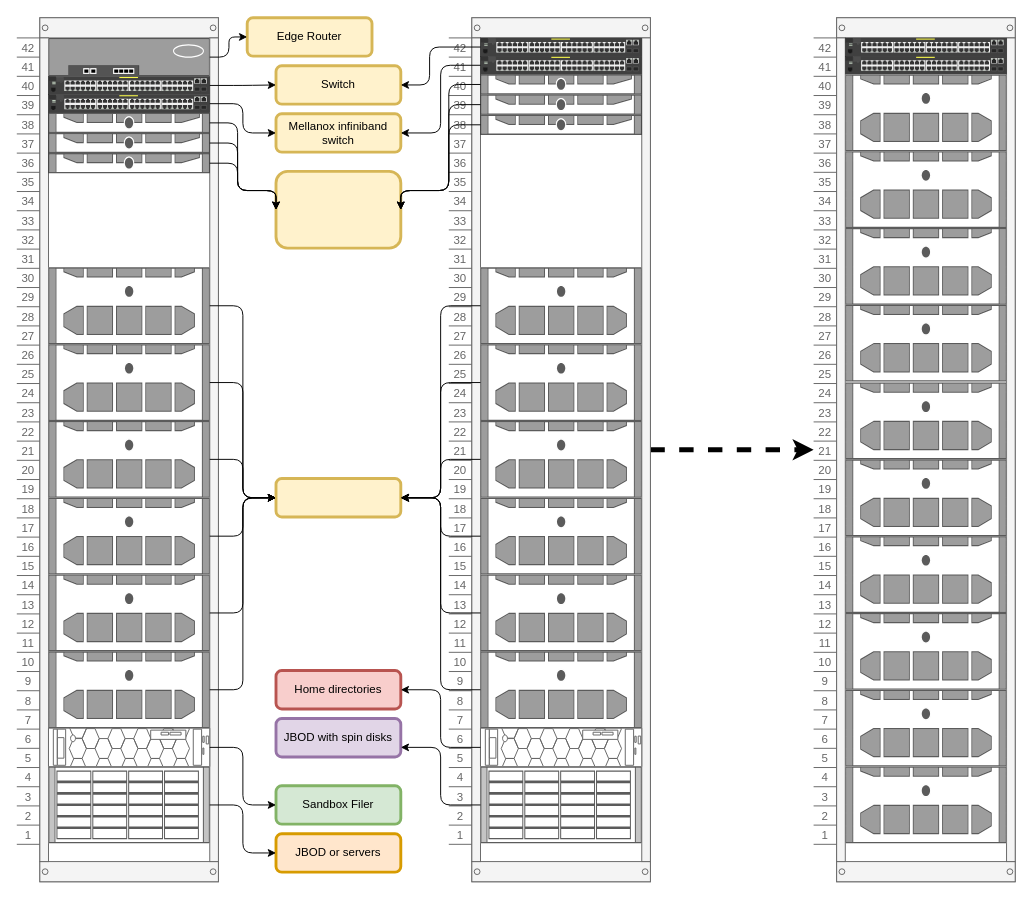
This 1032x899 diagram has some shape labels left out. Here are the shapes that lost their labels. From the top down, the box of each, then its label:
(274, 169, 402, 249): Basic housekeeping servers 1. Slurm Head nodes 2. kubernetes workers etc.
(274, 477, 402, 518): LambdaLabs GPU NODES
